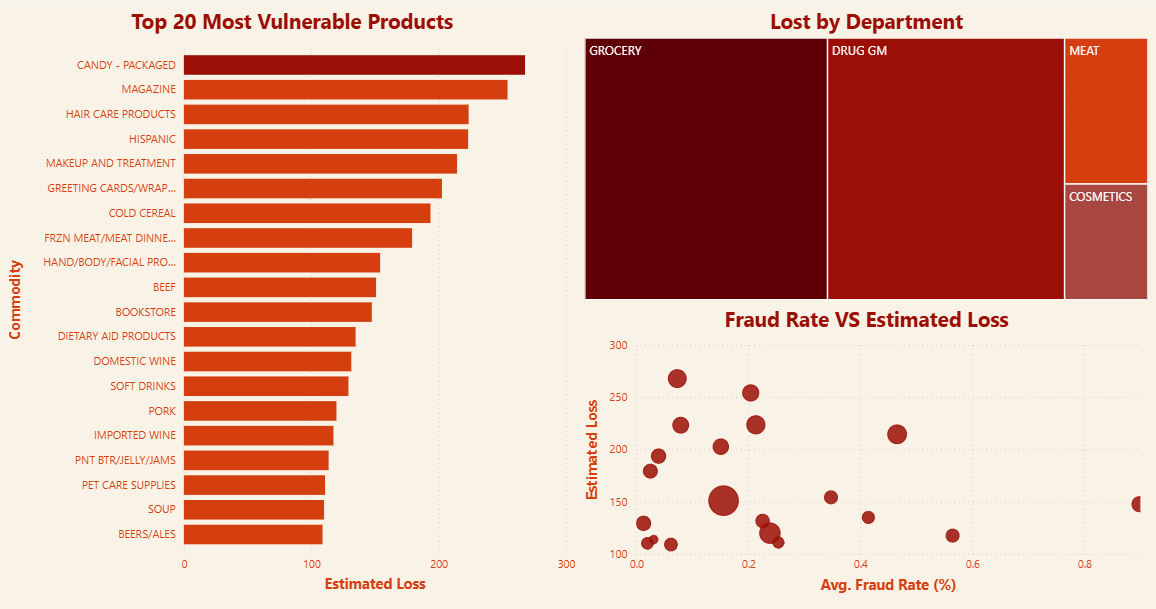

Layout of this report page (visuals, bound fields, positions):
{"tool":"powerbi","page":{"name":"Product Vulnerability","canvas":[1280,720],"ordinal":3},"visuals":[{"type":"clusteredBarChart","title":"Top 20 Most Vulnerable Products","fields":{"Category":["Q1_Product_Vulnerability.COMMODITY_DESC"],"Y":["Sum(Q1_Product_Vulnerability.estimated_loss)"]},"box":[6.9,54.9,632.6,650.4],"z":0},{"type":"treemap","title":"Lost by Department","fields":{"Group":["Q1_Product_Vulnerability.DEPARTMENT"],"Values":["Sum(Q1_Product_Vulnerability.estimated_loss)"]},"box":[639.5,54.9,628.5,328],"z":1000},{"type":"scatterChart","title":"Fraud Rate VS Estimated Loss","fields":{"X":["Avg(Q1_Product_Vulnerability.fraud_rate_pct)"],"Y":["Sum(Q1_Product_Vulnerability.estimated_loss)"],"Category":["Q1_Product_Vulnerability.COMMODITY_DESC"],"Size":["Sum(Q1_Product_Vulnerability.fraud_count)"]},"box":[639.5,382.8,628.5,322.5],"z":2000}]}

Visuals, with their boxes on the page's 1280x720 design canvas (x1, y1, x2, y2). These are canvas units, not pixel positions in the 1156x609 screenshot, which may show the page scaled, cropped or inside an application window:
"Top 20 Most Vulnerable Products" clusteredBarChart: <bbox>7, 55, 640, 705</bbox>
"Lost by Department" treemap: <bbox>640, 55, 1268, 383</bbox>
"Fraud Rate VS Estimated Loss" scatterChart: <bbox>640, 383, 1268, 705</bbox>
